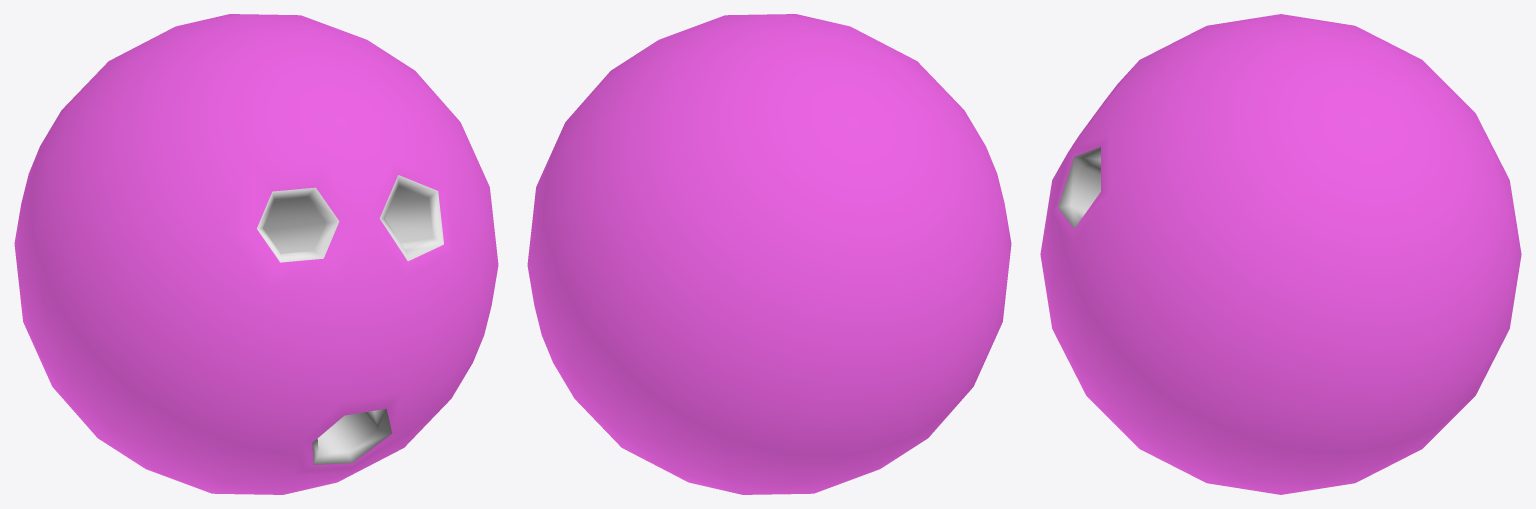
File: bowlingball2.glb
3 views of the same model, side by side, from view 1: azimuth 30°, elevation 25°; view 2: azimuth 150°, elevation 25°; view 3: azimuth 270°, elevation 25° (orthographic).
Visible parts, largest first — view 1: BowlingBall; view 2: BowlingBall; view 3: BowlingBall.
Part boxes in pixels (x1,y1,x2,y2): BowlingBall: (14, 14, 498, 494); BowlingBall: (527, 14, 1011, 494); BowlingBall: (1040, 14, 1521, 494).
Size of the model in its own units: 0.2172 by 0.2172 by 0.2172.
